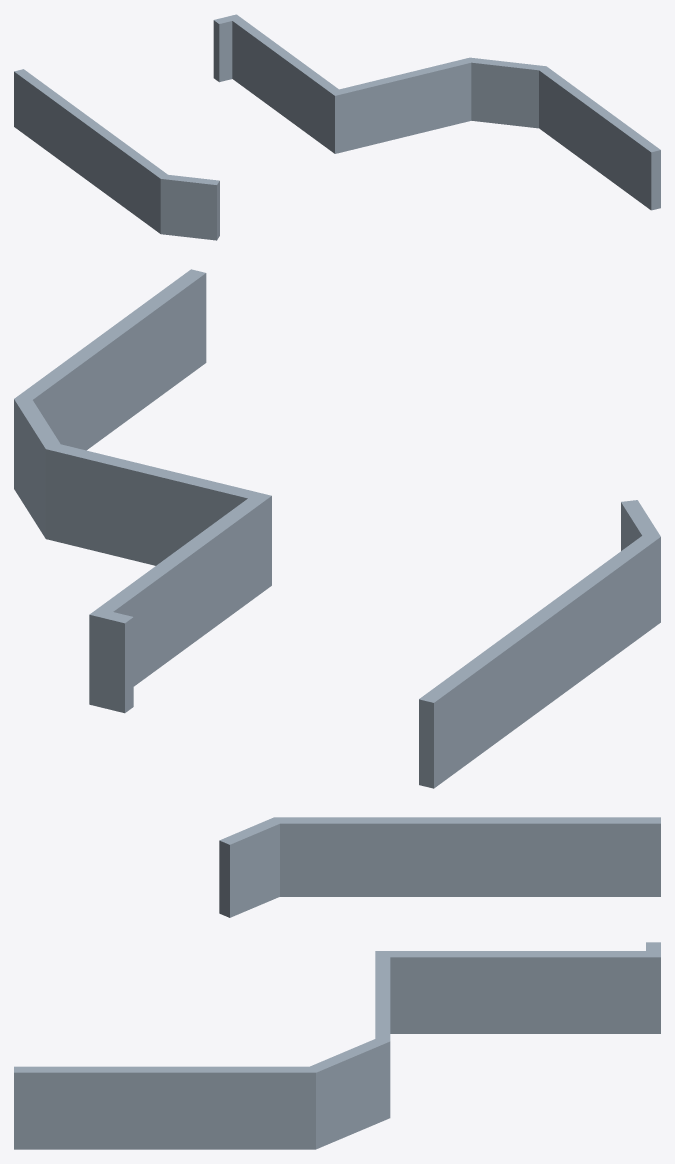
File: Dam_wall.fbx
The picture shows the model from 3 angles, top to bottom: view 1: azimuth 30°, elevation 25°; view 2: azimuth 150°, elevation 25°; view 3: azimuth 270°, elevation 25°; orthographic projection. The views are drawn at different scales.
Visible parts, largest first — view 1: 立方体.118; view 2: 立方体.118; view 3: 立方体.118.
Part boxes in pixels (bbox=[...]): 立方体.118: bbox=[14, 14, 660, 240]; 立方体.118: bbox=[14, 269, 660, 788]; 立方体.118: bbox=[14, 817, 660, 1149].
Size of the model in its own units: 2243 by 2369 by 310.
